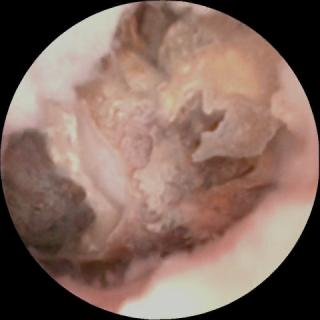stone: (4, 4, 283, 285)
